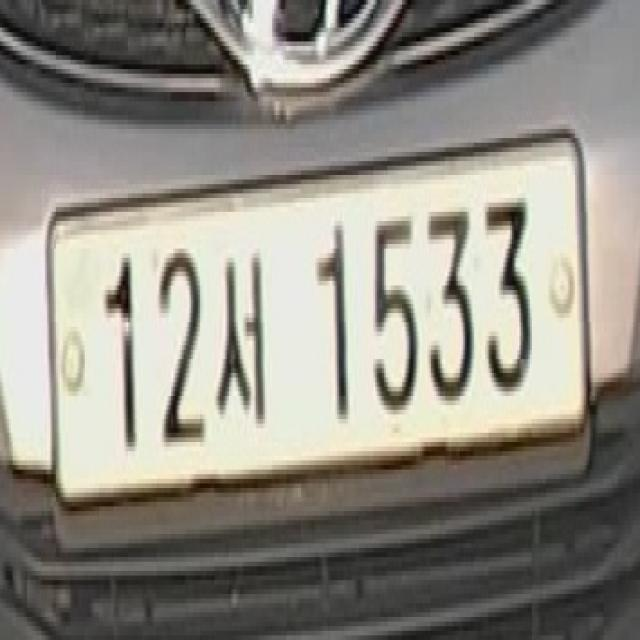1: (308, 198, 366, 437), (101, 235, 148, 465)
2: (152, 235, 209, 483)
3: (482, 189, 538, 405), (425, 194, 476, 424)
5: (366, 198, 425, 451)
license_plate: (42, 124, 593, 576)
seo: (208, 225, 282, 456)
